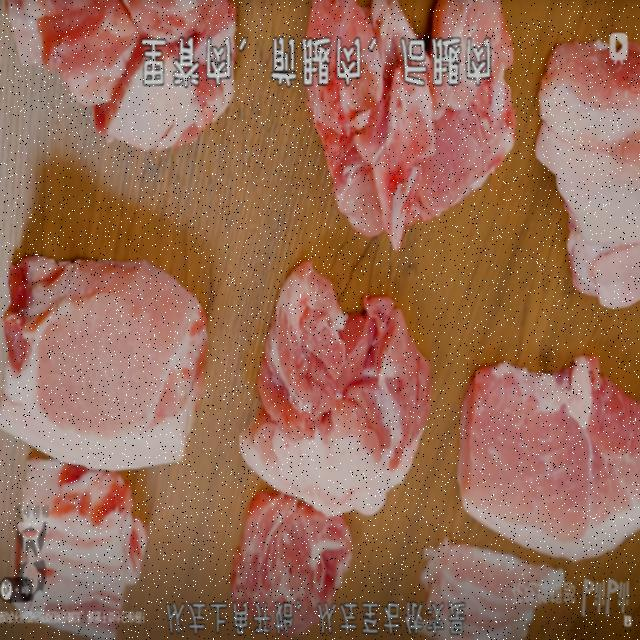pork: (3, 260, 221, 450), (245, 274, 427, 486), (323, 83, 523, 247), (464, 347, 640, 531), (560, 16, 639, 332), (29, 468, 158, 634), (18, 7, 141, 144), (432, 540, 562, 634), (234, 511, 362, 603)
